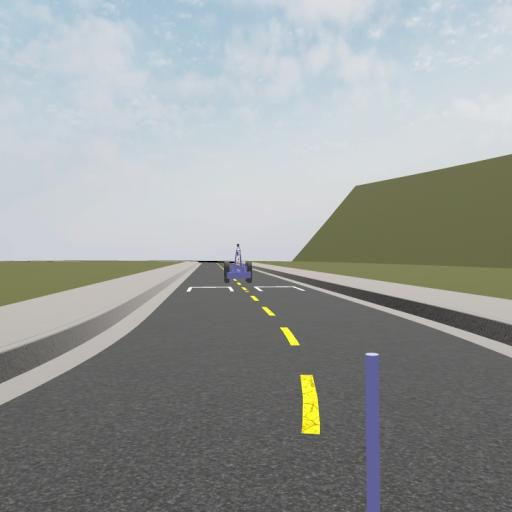ERP-42: (224, 242, 252, 284)
